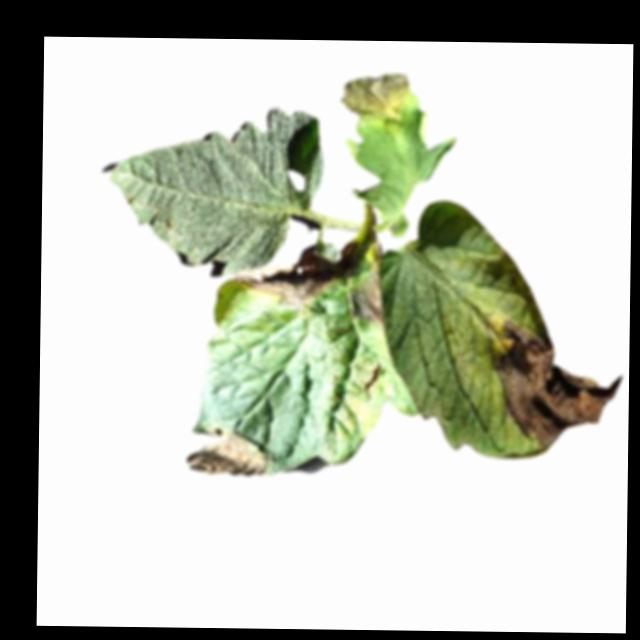Late_blight: (491, 313, 617, 449), (232, 246, 333, 309), (185, 427, 271, 477), (339, 73, 411, 127), (347, 265, 391, 330)
healthy: (107, 105, 325, 276)
